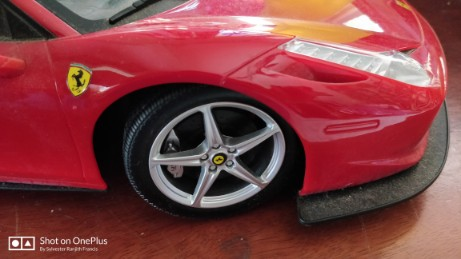unaligned_wheel: (117, 77, 300, 223)
